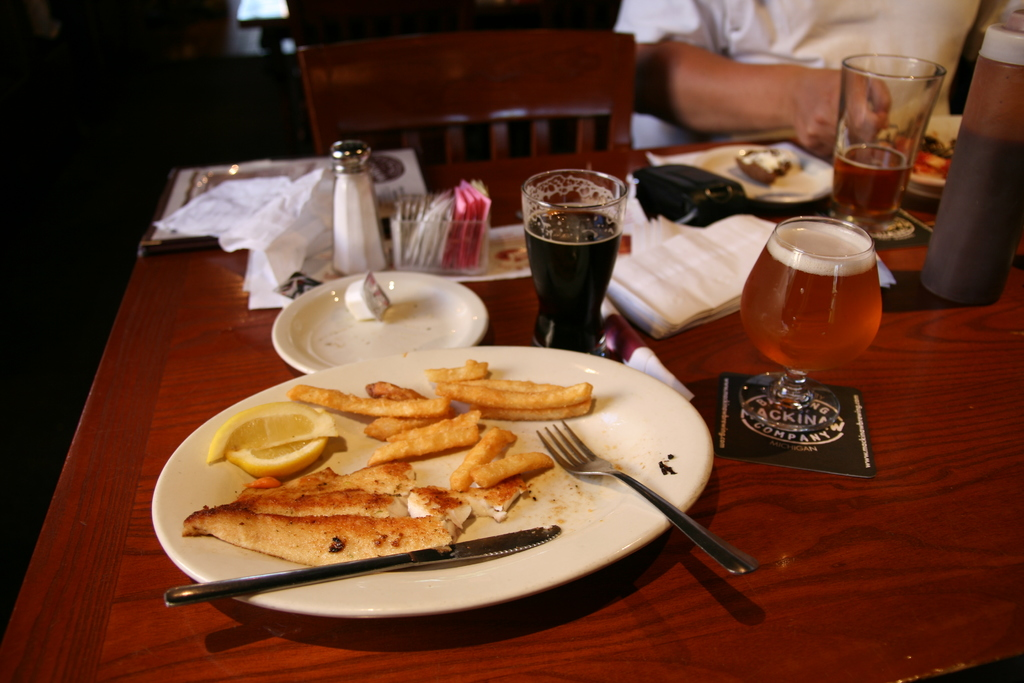French fries: (184, 346, 604, 571)
